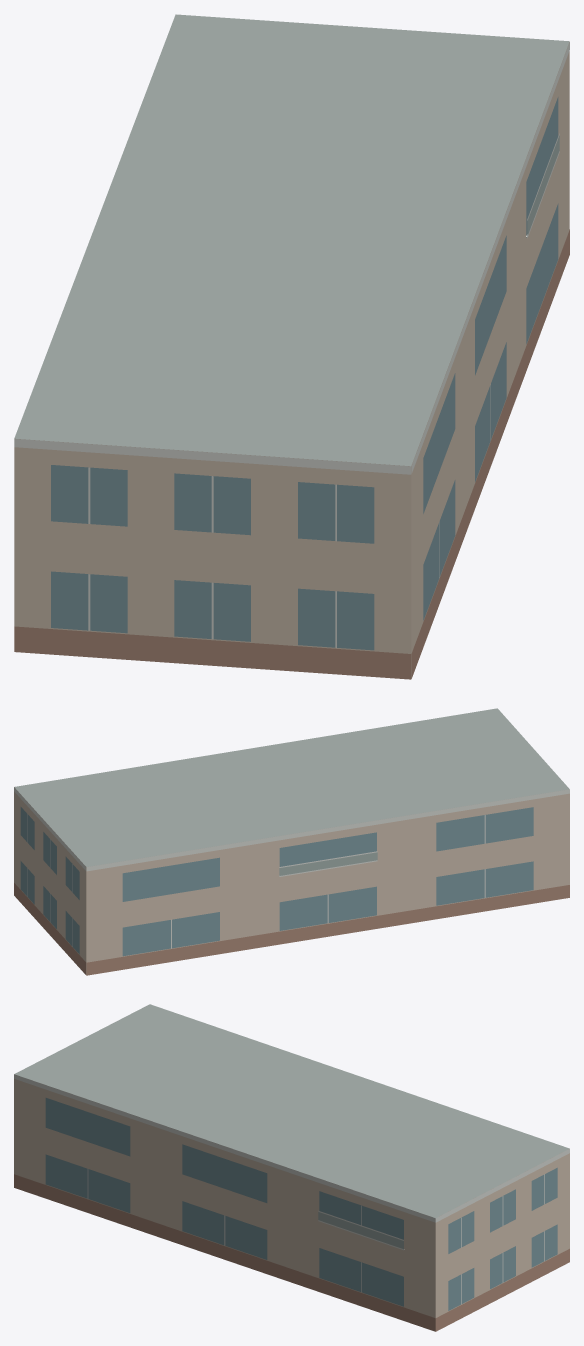
Rendered from survey-upis-32622537.glb.
The picture shows the model from 3 angles, top to bottom: view 1: azimuth 30°, elevation 25°; view 2: azimuth 150°, elevation 25°; view 3: azimuth 270°, elevation 25°; orthographic projection. The views are drawn at different scales.
Parts seen in each view (by area): view 1: survey-upis-32622537.tmp; view 2: survey-upis-32622537.tmp; view 3: survey-upis-32622537.tmp.
Boxes of the visible parts, x1=… form: survey-upis-32622537.tmp: x1=14, y1=14, x2=569, y2=679; survey-upis-32622537.tmp: x1=14, y1=708, x2=569, y2=975; survey-upis-32622537.tmp: x1=14, y1=1004, x2=569, y2=1331.
Size of the model in its own units: 24.67 by 6.1 by 27.07.
